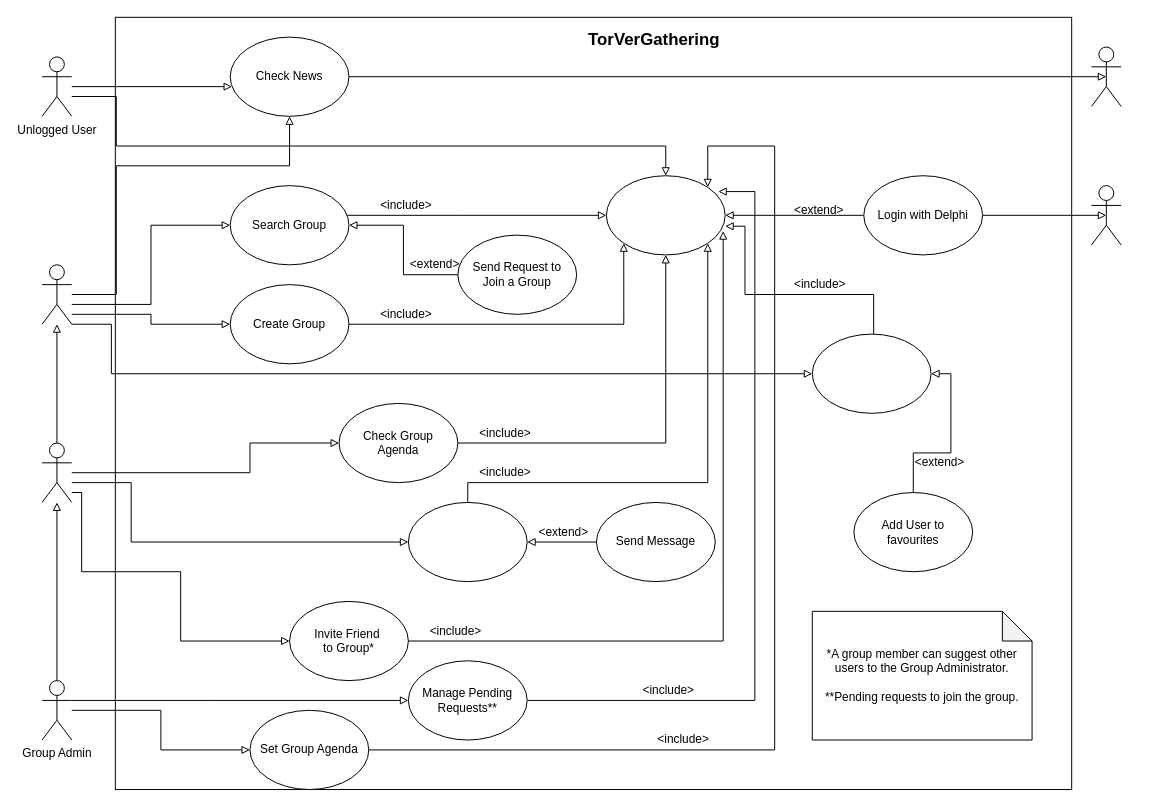
Image size: 1153x807. Some labels were removed from this diagram. The box of each missing label's shape, as (x1, y1, x2, y2) in pixels:
Check Group Messages: (407, 501, 527, 582)
Delphi: (1090, 185, 1121, 245)
Group Member: (41, 442, 72, 502)
Log In: (605, 175, 725, 255)
Logged User: (41, 264, 72, 324)
Search User: (811, 333, 931, 413)
Tor Vergata: (1090, 46, 1121, 106)
